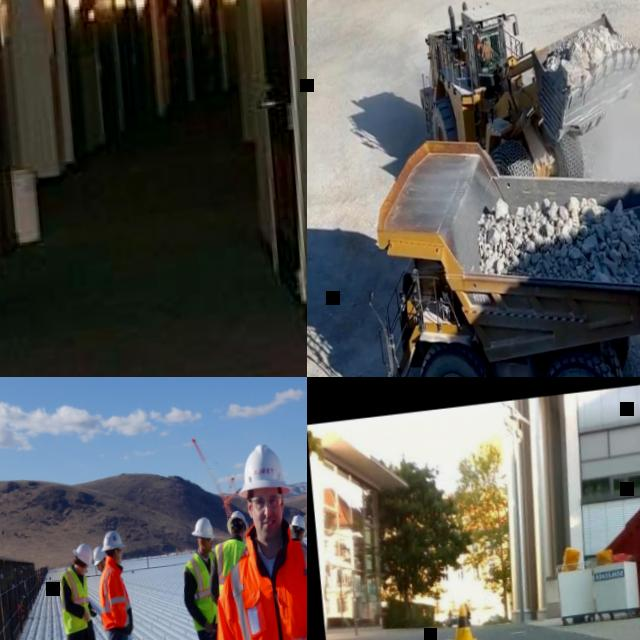Hardhat: (232, 441, 294, 502), (99, 528, 126, 555), (190, 516, 216, 544), (72, 540, 96, 568), (226, 509, 250, 534), (92, 543, 108, 568), (289, 515, 307, 537)
NO-Hardhat: (483, 36, 488, 41)
NO-Mask: (252, 510, 282, 543), (201, 543, 213, 556), (116, 552, 123, 563), (79, 568, 87, 576), (98, 564, 105, 573)
NO-Safety Vest: (483, 44, 491, 60)
Person: (191, 435, 307, 640), (194, 509, 273, 640), (174, 514, 236, 640), (93, 528, 148, 640), (55, 539, 114, 640), (90, 545, 121, 640), (288, 513, 307, 543), (480, 36, 494, 63)
Safety Cone: (445, 604, 480, 640)
Safety Vest: (200, 519, 307, 640), (95, 555, 136, 640), (183, 550, 222, 631), (208, 538, 253, 594), (59, 568, 94, 635)
vehicle: (351, 107, 640, 377), (407, 0, 640, 220)
